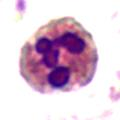neutrophil: (19, 17, 100, 93)
